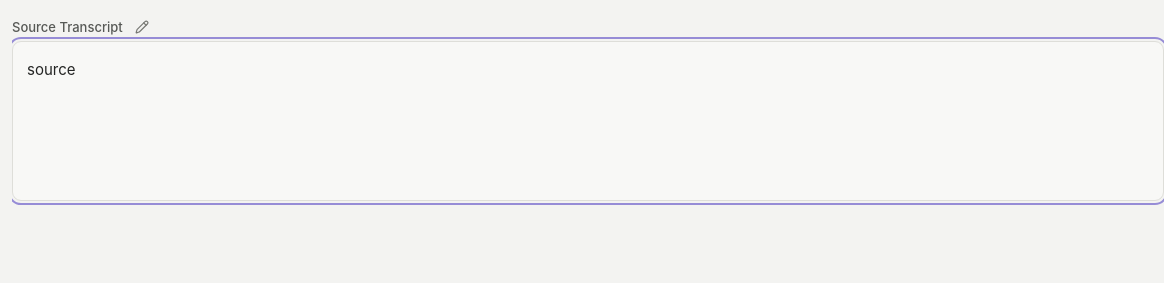
EditCanvas model › rejects unsupported markup only when a text operation is submitted
Press Home in the field with class "edit-canvas", box [12,41,1163,201]
Press ArrowRight in the field with class "edit-canvas", box [12,41,1163,201]
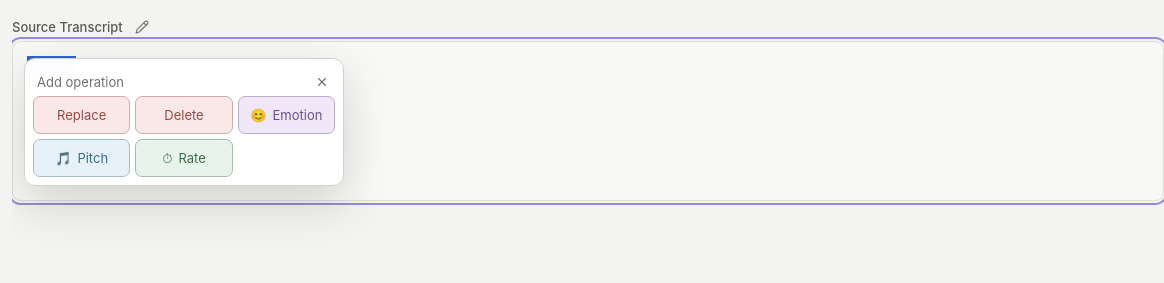
Now the text "Add operation" is shown, box [37,74,124,90]
Click the button "replace" at (82, 115), box [33,96,130,134]
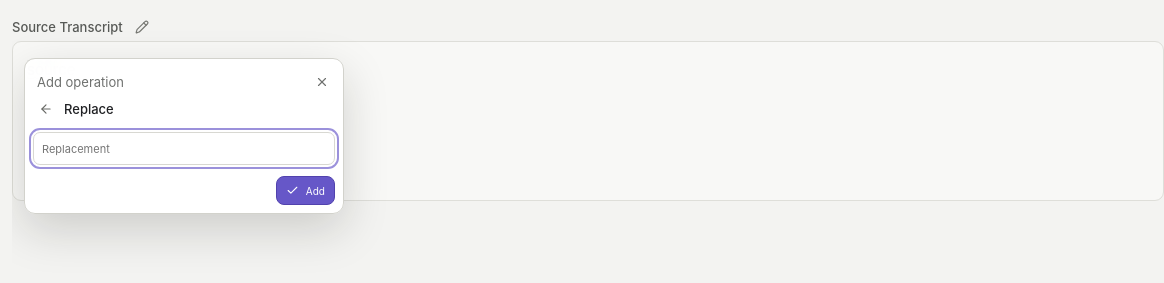
Type "<ins>bad</ins>" into the field with placeholder "Replacement" at (184, 148), box [33,132,335,165]
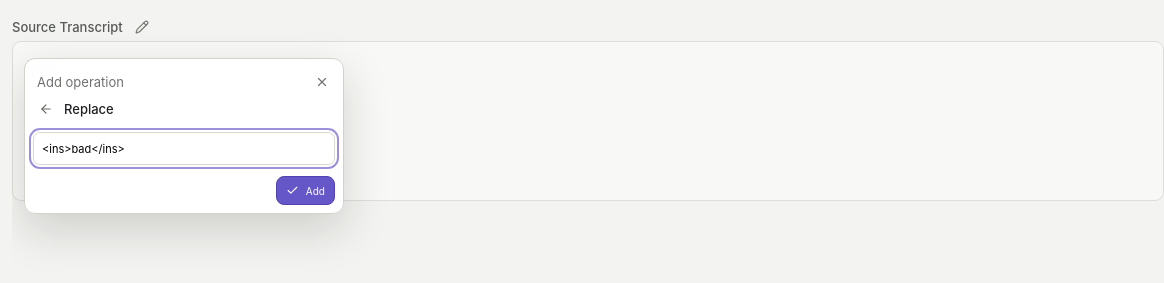
Click the button "Add" at (305, 190), box [276,176,335,205]
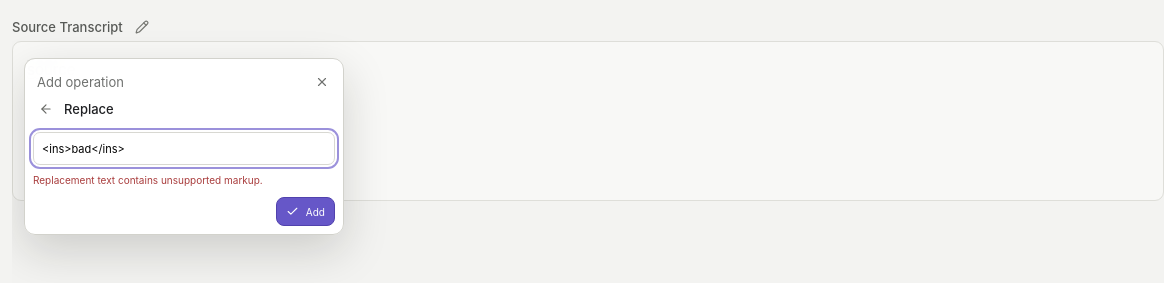
Now the text "Replacement text contains unsupported markup." is shown, box [33,174,263,186]
